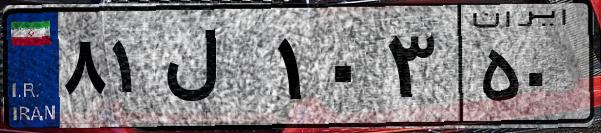0: (330, 28, 385, 110), (525, 38, 570, 115)
1: (270, 28, 330, 110), (110, 28, 158, 98)
3: (385, 28, 445, 110)
5: (475, 38, 525, 113)
8: (57, 26, 110, 100)
ل: (158, 20, 270, 120)
